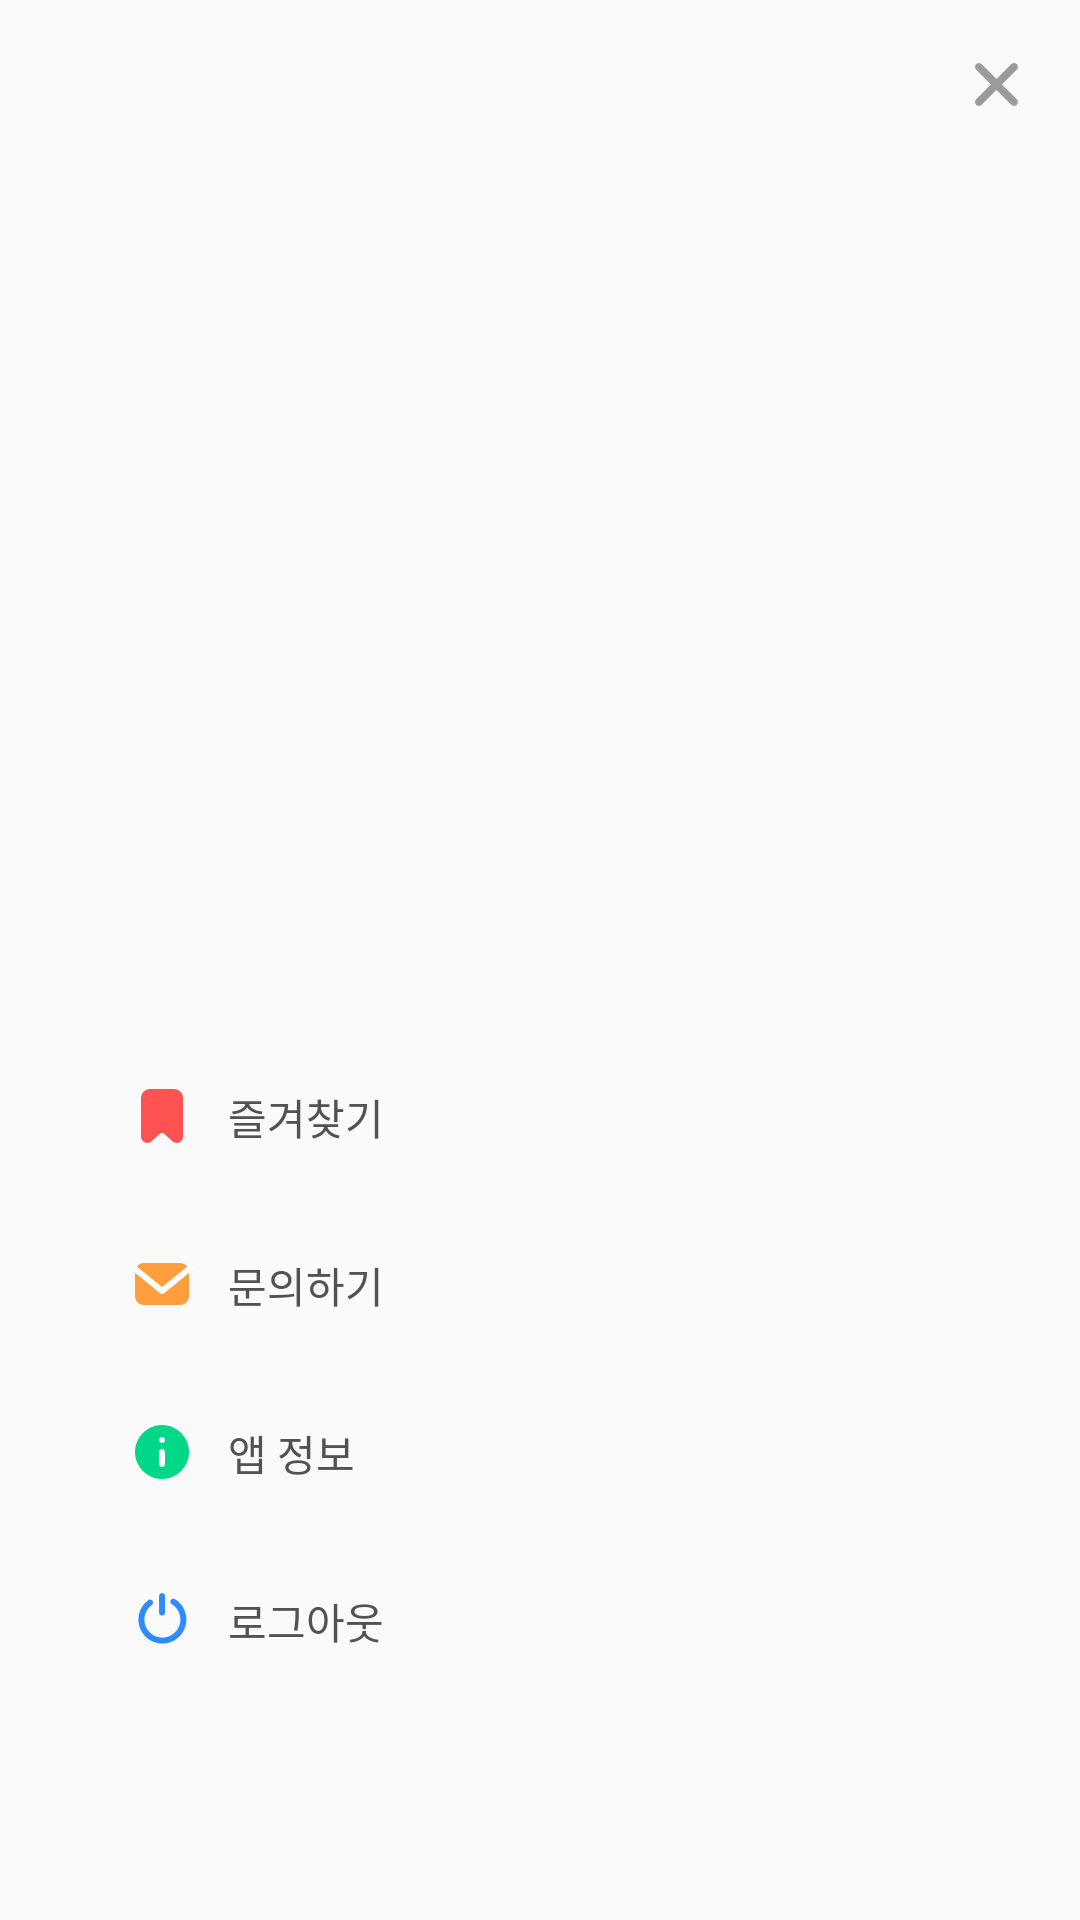

Where icons sit on this 1080x1920 app screen, as [x1,y1,x2,y2]:
close: [975,63,1018,106]
contact: [135,1263,189,1305]
info: [135,1425,189,1479]
top bookmark pres sm: [141,1089,183,1143]
